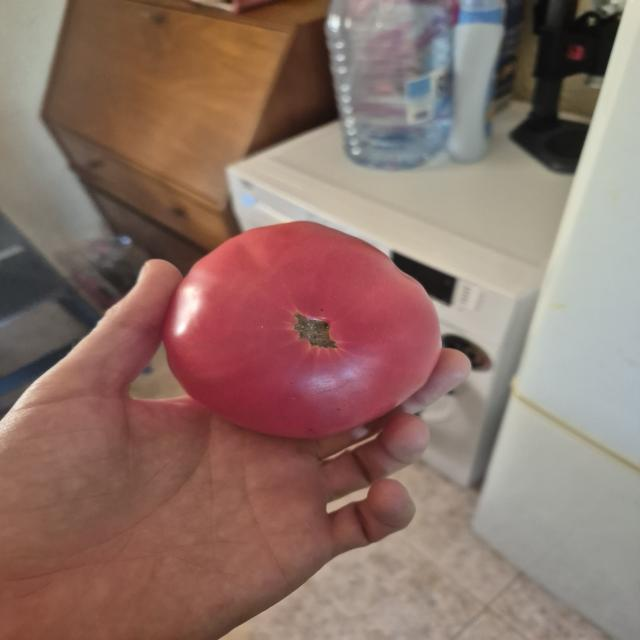tomate: (159, 220, 445, 442)
